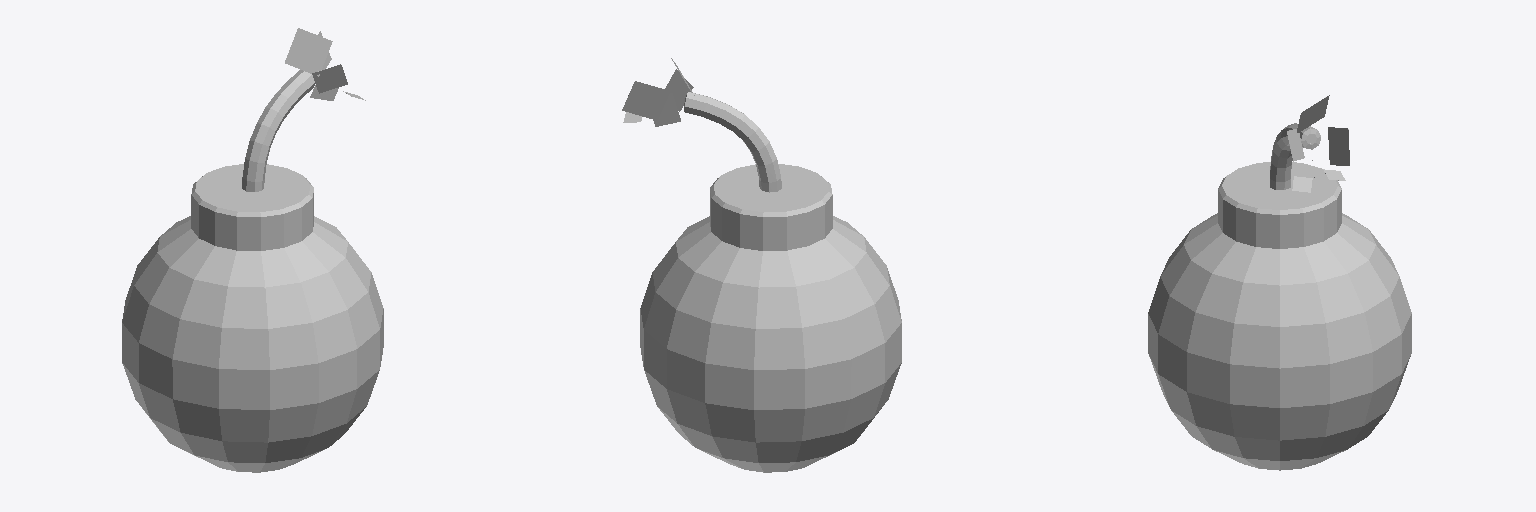
Rendered from bomb_000015.obj.
3 renders of one model, left to right at view 1: azimuth 30°, elevation 25°; view 2: azimuth 150°, elevation 25°; view 3: azimuth 270°, elevation 25°, orthographic.
Visible parts, largest first — view 1: Sphere, NurbsPath, Plane_5.001_Mesh.001; view 2: Sphere, NurbsPath, Plane_5.001_Mesh.001; view 3: Sphere, Plane_5.001_Mesh.001, NurbsPath.
Part boxes in pixels (left/top/right/bottom): Sphere: left=122, top=164, right=383, bottom=472; NurbsPath: left=242, top=70, right=315, bottom=191; Plane_5.001_Mesh.001: left=285, top=28, right=365, bottom=100; Sphere: left=640, top=164, right=901, bottom=472; NurbsPath: left=684, top=92, right=781, bottom=192; Plane_5.001_Mesh.001: left=622, top=58, right=694, bottom=126; Sphere: left=1148, top=162, right=1411, bottom=470; Plane_5.001_Mesh.001: left=1287, top=95, right=1349, bottom=192; NurbsPath: left=1270, top=123, right=1320, bottom=189.
Size of the model in its own units: 0.9231 by 1.46 by 0.8981.